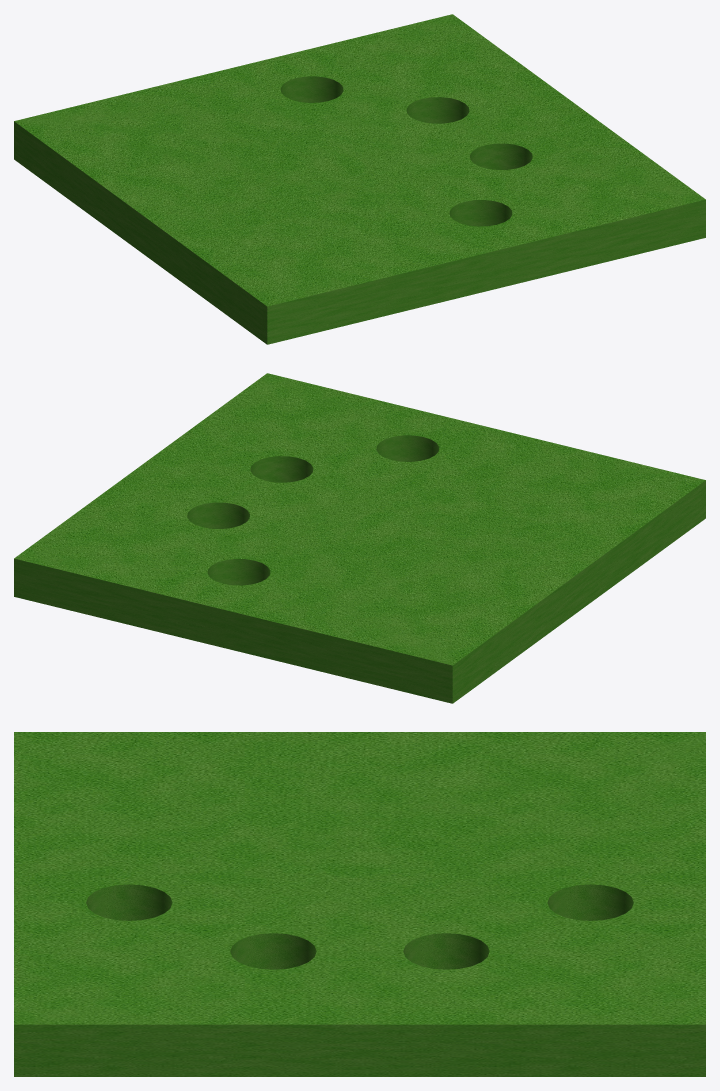
The model's file is StageSelect.fbx.
The picture shows the model from 3 angles, top to bottom: view 1: azimuth 30°, elevation 25°; view 2: azimuth 150°, elevation 25°; view 3: azimuth 270°, elevation 25°; orthographic projection. The views are drawn at different scales.
Visible parts, largest first — view 1: pCube22; view 2: pCube22; view 3: pCube22.
Part boxes in pixels (x1,y1,x2,y2): pCube22: (14, 14, 705, 344); pCube22: (14, 373, 705, 703); pCube22: (14, 732, 705, 1076).
Size of the model in its own units: 24 by 2 by 24.
